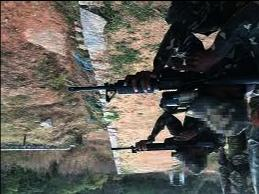gun: (68, 60, 259, 104), (109, 136, 213, 152)
